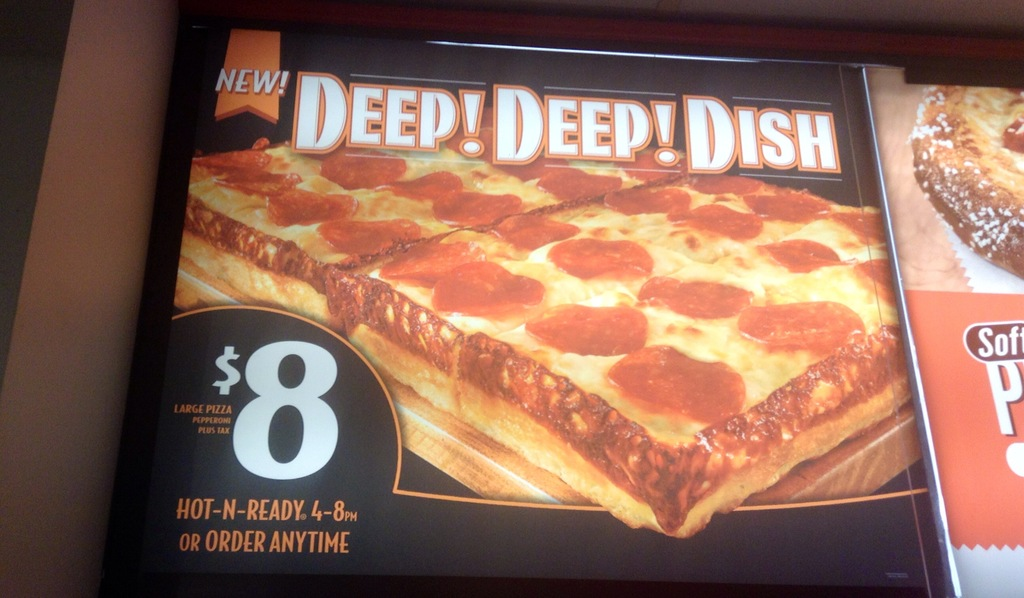Pizza: (190, 154, 929, 523), (913, 86, 1023, 288)
